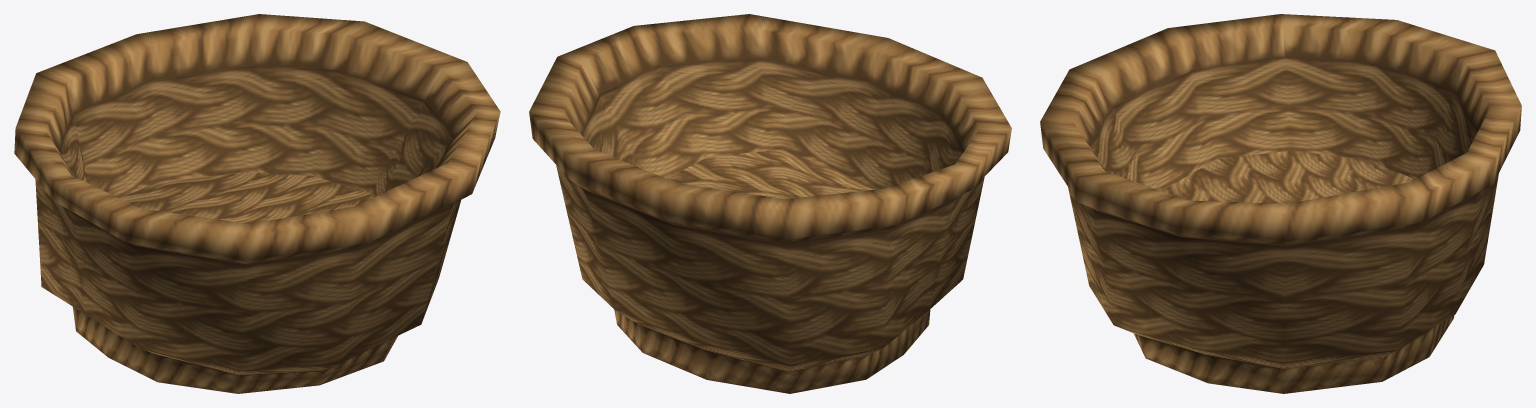
File: SM_PROP_basket_city_03.fbx
The picture shows the model from 3 angles, left to right: view 1: azimuth 30°, elevation 25°; view 2: azimuth 150°, elevation 25°; view 3: azimuth 270°, elevation 25°; orthographic projection. The views are drawn at different scales.
Visible parts, largest first — view 1: SM_PROP_basket_city_03; view 2: SM_PROP_basket_city_03; view 3: SM_PROP_basket_city_03.
Boxes of the visible parts, box(x1,y1,x2,y2) form: SM_PROP_basket_city_03: box(14, 14, 500, 393); SM_PROP_basket_city_03: box(529, 14, 1011, 393); SM_PROP_basket_city_03: box(1040, 14, 1521, 393).
Size of the model in its own units: 43.01 by 20.86 by 41.02.
